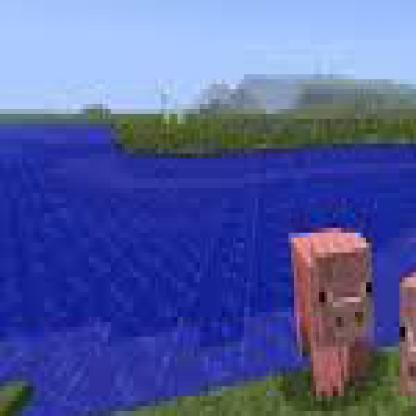minecraft-pigs: (282, 218, 386, 414), (396, 237, 414, 412)
